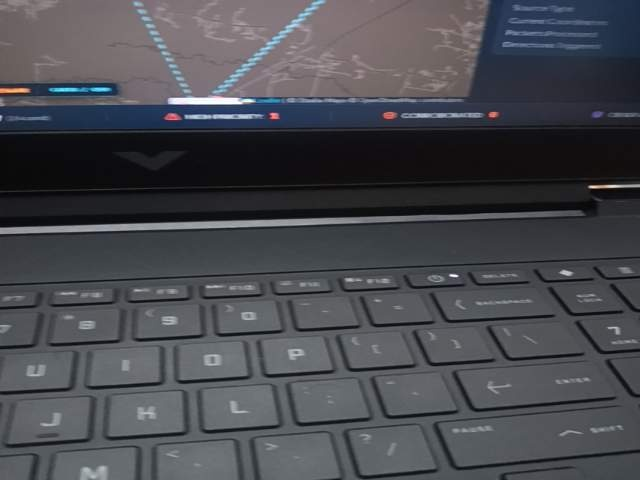pothole: (104, 403, 310, 480), (536, 403, 640, 480)
